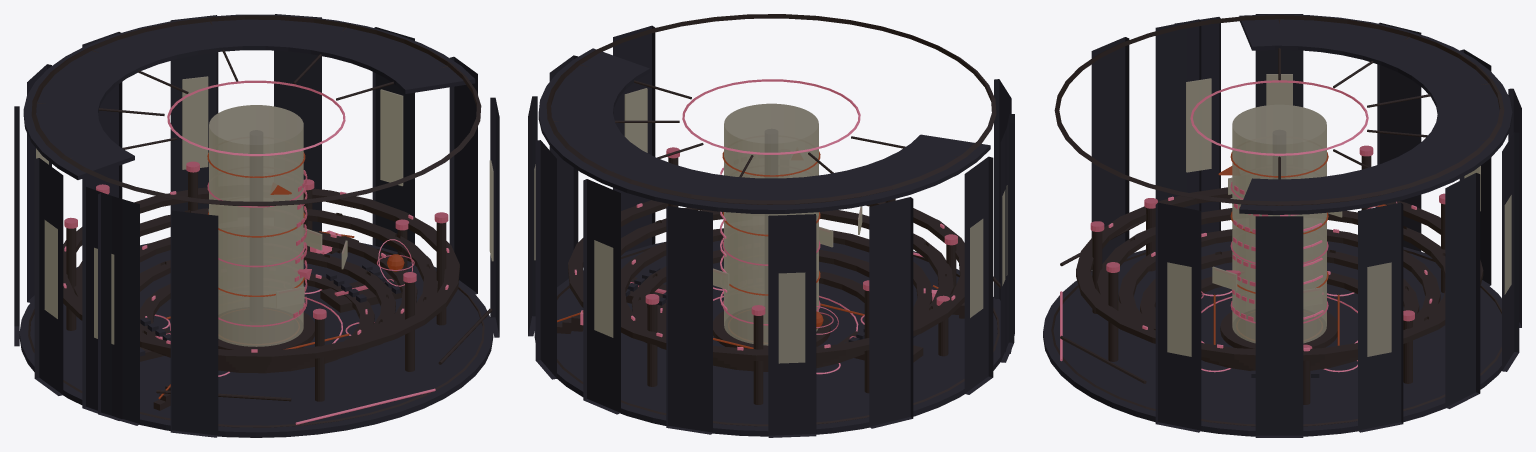
Rendered from leaderboard-int.glb.
The picture shows the model from 3 angles, left to right: view 1: azimuth 30°, elevation 25°; view 2: azimuth 150°, elevation 25°; view 3: azimuth 270°, elevation 25°; orthographic projection.
Visible parts, largest first — view 1: arena_interior_curved_wall_panels_with_front_gap, competition_floor_disc, rear_partial_ceiling_canopy_back_half, central_holographic_leaderboard_cylinder, tiered_seating_row_04_concentric_bowl, arena_interior_inactive_display_slits, open_sky_ceiling_rim_aperture, tiered_seating_row_03_concentric_bowl, tiered_seating_row_01_concentric_bowl, tiered_seating_row_02_concentric_bowl, tiered_seating_row_00_concentric_bowl, floor_outer_service_ring (+9 smaller); view 2: arena_interior_curved_wall_panels_with_front_gap, rear_partial_ceiling_canopy_back_half, competition_floor_disc, central_holographic_leaderboard_cylinder, arena_interior_inactive_display_slits, tiered_seating_row_04_concentric_bowl, open_sky_ceiling_rim_aperture, tiered_seating_row_03_concentric_bowl, tiered_seating_row_02_concentric_bowl, tiered_seating_row_01_concentric_bowl, ceiling_inner_rank_orbit_track, tiered_seating_row_00_concentric_bowl (+5 smaller); view 3: arena_interior_curved_wall_panels_with_front_gap, competition_floor_disc, rear_partial_ceiling_canopy_back_half, central_holographic_leaderboard_cylinder, arena_interior_inactive_display_slits, tiered_seating_row_04_concentric_bowl, open_sky_ceiling_rim_aperture, tiered_seating_row_02_concentric_bowl, tiered_seating_row_03_concentric_bowl, tiered_seating_row_01_concentric_bowl, floor_outer_service_ring, ceiling_inner_rank_orbit_track (+6 smaller).
Part boxes in pixels (x1,y1,x2,y2): arena_interior_curved_wall_panels_with_front_gap: (14,14,499,437); competition_floor_disc: (19,243,493,437); rear_partial_ceiling_canopy_back_half: (23,14,475,179); central_holographic_leaderboard_cylinder: (209,105,303,346); tiered_seating_row_04_concentric_bowl: (63,187,459,362); arena_interior_inactive_display_slits: (36,76,493,344); open_sky_ceiling_rim_aperture: (31,15,481,206); tiered_seating_row_03_concentric_bowl: (74,208,437,364); tiered_seating_row_01_concentric_bowl: (140,250,395,370); tiered_seating_row_02_concentric_bowl: (140,230,417,367); tiered_seating_row_00_concentric_bowl: (140,274,374,373); floor_outer_service_ring: (28,249,484,427); arena_interior_curved_wall_panels_with_front_gap: (528,25,1014,437); rear_partial_ceiling_canopy_back_half: (538,48,990,213); competition_floor_disc: (534,240,1000,436); central_holographic_leaderboard_cylinder: (724,103,818,345); arena_interior_inactive_display_slits: (534,88,1007,363); tiered_seating_row_04_concentric_bowl: (568,200,964,360); open_sky_ceiling_rim_aperture: (546,14,996,204); tiered_seating_row_03_concentric_bowl: (621,209,953,363); tiered_seating_row_02_concentric_bowl: (621,228,932,366); tiered_seating_row_01_concentric_bowl: (632,249,869,369); ceiling_inner_rank_orbit_track: (682,79,860,154); tiered_seating_row_00_concentric_bowl: (657,271,864,371); arena_interior_curved_wall_panels_with_front_gap: (1091,14,1521,437); competition_floor_disc: (1043,241,1501,436); rear_partial_ceiling_canopy_back_half: (1239,14,1512,214); central_holographic_leaderboard_cylinder: (1232,104,1326,343); arena_interior_inactive_display_slits: (1167,74,1511,356); tiered_seating_row_04_concentric_bowl: (1076,187,1483,360); open_sky_ceiling_rim_aperture: (1054,15,1504,205); tiered_seating_row_02_concentric_bowl: (1118,229,1440,366); tiered_seating_row_03_concentric_bowl: (1097,208,1445,363); tiered_seating_row_01_concentric_bowl: (1140,250,1419,368); floor_outer_service_ring: (1051,249,1501,426); ceiling_inner_rank_orbit_track: (1190,80,1368,155).
Size of the model in its own units: 12.68 by 6.63 by 12.55.
